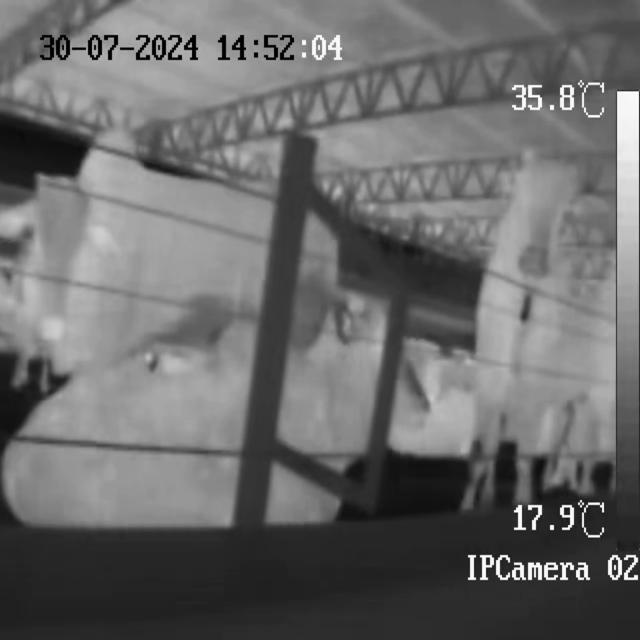eye: (32, 229, 47, 259)
head: (26, 168, 87, 344), (509, 155, 568, 278)
